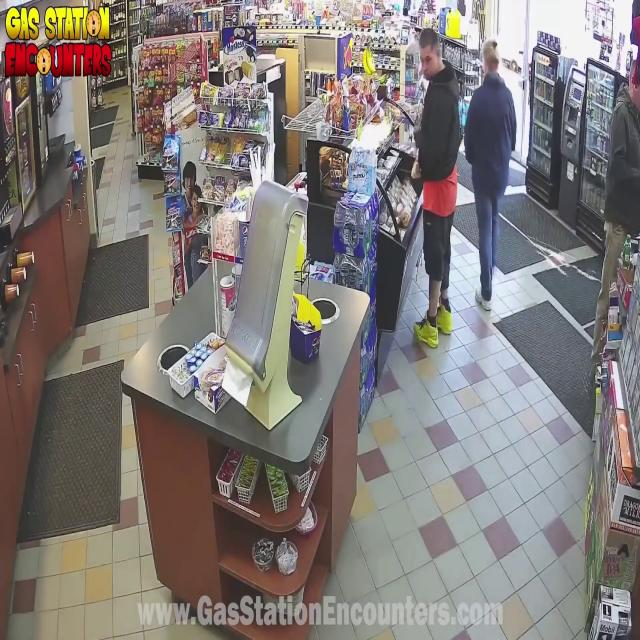Product: (406, 141, 424, 179)
normal: (462, 31, 539, 368), (601, 42, 640, 255)
shoplifting: (386, 19, 471, 357)
